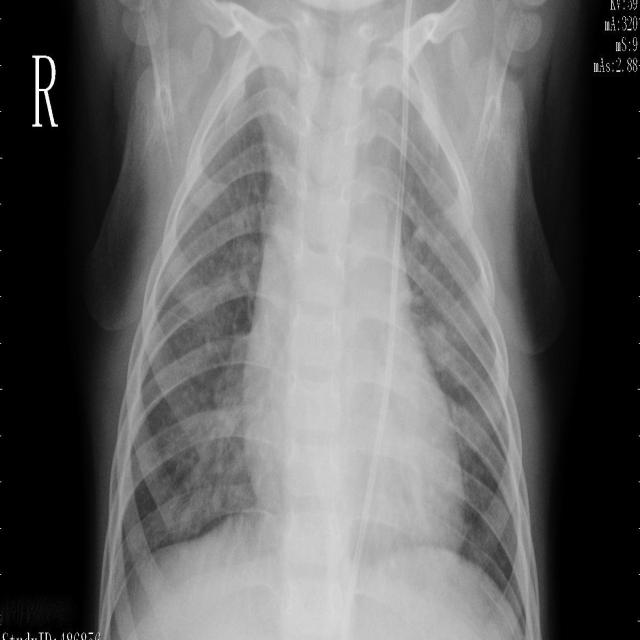low-pneumonia: (183, 366, 252, 541)
